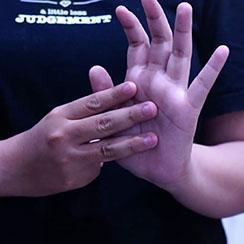M: (0, 0, 231, 217)
